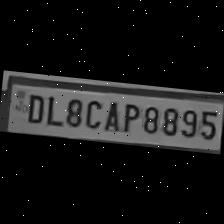5: (197, 106, 220, 140)
8: (62, 94, 86, 128), (138, 100, 161, 134), (160, 102, 182, 136)
9: (178, 104, 199, 138)
A: (101, 96, 123, 132)
C: (82, 94, 104, 130)
D: (21, 90, 47, 124)
L: (42, 92, 64, 126)
P: (118, 99, 141, 134)
